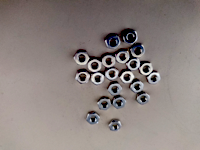nut: (105, 34, 121, 50), (123, 29, 138, 45), (74, 51, 90, 65), (102, 54, 116, 69), (76, 70, 90, 84), (88, 59, 102, 73), (105, 67, 119, 81), (131, 44, 145, 58), (116, 50, 130, 64), (130, 79, 144, 93), (147, 71, 161, 85), (97, 98, 112, 111), (108, 83, 123, 96), (120, 71, 135, 84), (86, 112, 100, 125), (91, 73, 105, 86), (113, 97, 127, 110), (127, 58, 141, 71), (140, 62, 153, 76), (137, 92, 150, 105), (109, 119, 122, 131)
